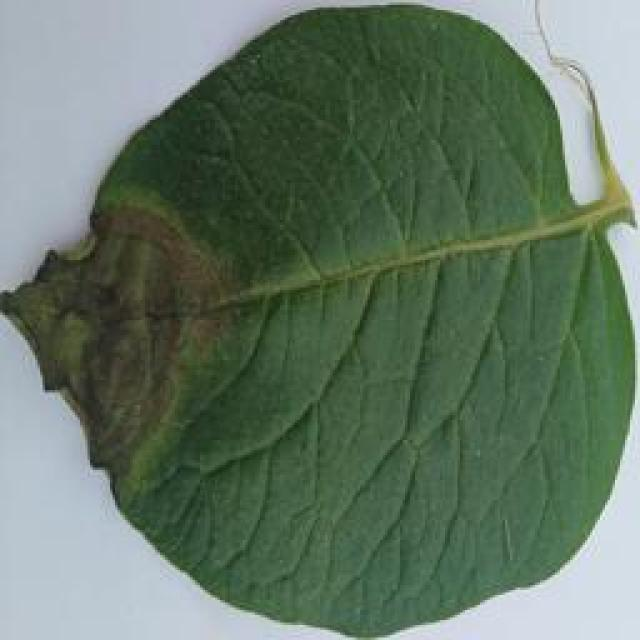Potato_Late_Blight: (0, 7, 626, 635)
